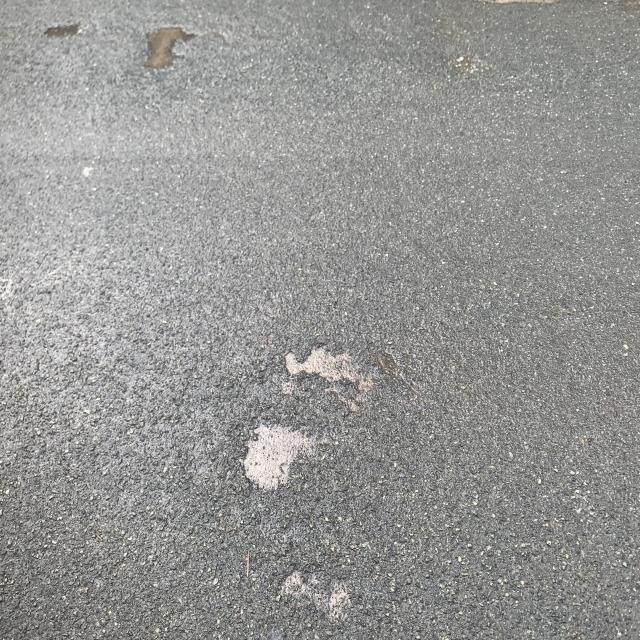pothole: (237, 334, 393, 488)
